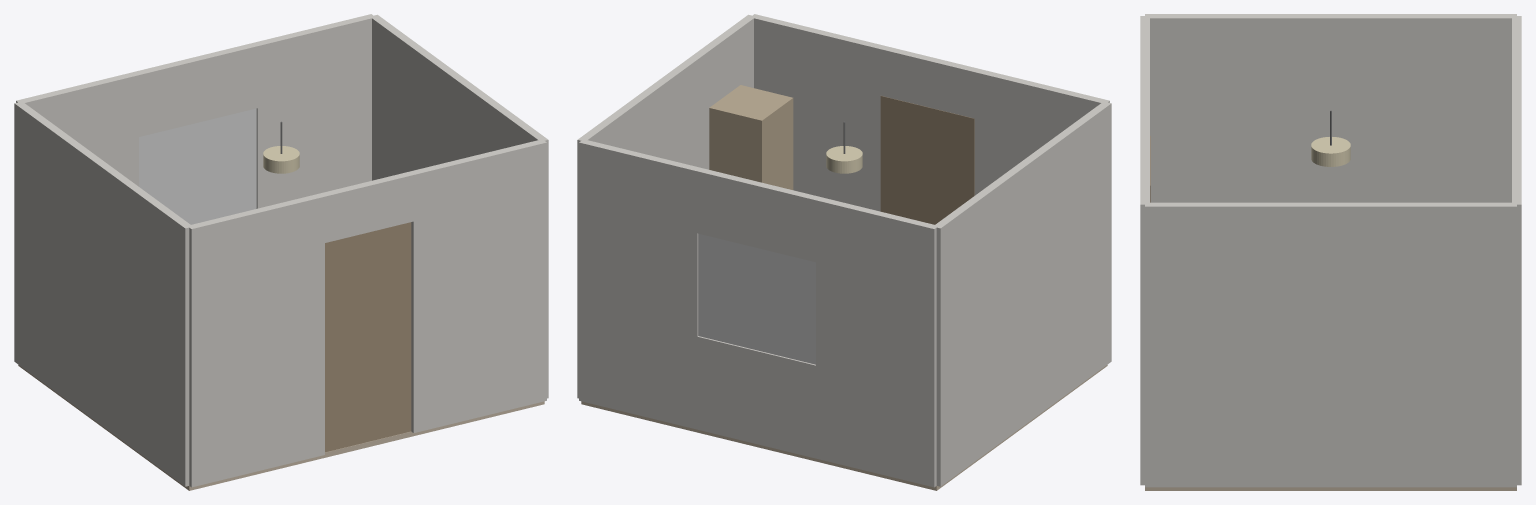
The model's file is room.glb.
3 renders of one model, left to right at view 1: azimuth 30°, elevation 25°; view 2: azimuth 150°, elevation 25°; view 3: azimuth 270°, elevation 25°, orthographic. The views are drawn at different scales.
Parts seen in each view (by area): view 1: wall_left, wall_front_left, wall_front_right, wall_back_right, door_frame, wall_right, window_frame, wall_back_above, wall_back_left, wall_front_above, floor, light_shade; view 2: wall_left, wall_back_left, wall_back_right, wall_front_right, window_frame, wall_right, wall_back_below, door_frame, wall_front_left, wall_back_above, wardrobe, wall_front_above (+2 smaller); view 3: wall_right, wall_left, wall_front_right, wall_back_right, floor, light_shade, wall_front_left, wall_back_left, wall_back_above, wall_front_above.
Boxes of the visible parts, left/top/right/bottom form: wall_left: left=14, top=101, right=191, bottom=486; wall_front_left: left=187, top=193, right=324, bottom=487; wall_front_right: left=409, top=139, right=546, bottom=432; wall_back_right: left=253, top=14, right=375, bottom=208; door_frame: left=325, top=222, right=411, bottom=452; wall_right: left=370, top=14, right=548, bottom=398; window_frame: left=139, top=108, right=256, bottom=224; wall_back_above: left=135, top=43, right=257, bottom=136; wall_back_left: left=16, top=72, right=138, bottom=186; wall_front_above: left=320, top=172, right=413, bottom=242; floor: left=18, top=365, right=544, bottom=490; light_shade: left=263, top=146, right=299, bottom=173; wall_left: left=935, top=101, right=1111, bottom=486; wall_back_left: left=816, top=197, right=938, bottom=487; wall_back_right: left=579, top=139, right=701, bottom=429; wall_front_right: left=751, top=14, right=887, bottom=211; window_frame: left=698, top=233, right=815, bottom=364; wall_right: left=577, top=14, right=753, bottom=398; wall_back_below: left=697, top=336, right=815, bottom=458; door_frame: left=880, top=96, right=974, bottom=224; wall_front_left: left=972, top=68, right=1109, bottom=195; wall_back_above: left=697, top=168, right=819, bottom=262; wardrobe: left=709, top=85, right=793, bottom=189; wall_front_above: left=883, top=46, right=976, bottom=117; wall_right: left=1145, top=202, right=1516, bottom=487; wall_left: left=1145, top=14, right=1516, bottom=202; wall_front_right: left=1140, top=134, right=1149, bottom=485; wall_back_right: left=1512, top=141, right=1521, bottom=485; floor: left=1145, top=487, right=1516, bottom=490; light_shade: left=1311, top=137, right=1350, bottom=166; wall_front_left: left=1140, top=16, right=1149, bottom=86; wall_back_left: left=1512, top=16, right=1521, bottom=78; wall_back_above: left=1512, top=79, right=1521, bottom=141; wall_front_above: left=1140, top=86, right=1149, bottom=133.
Bounding box in the file's own units: 3.68 × 2.55 × 3.08.
